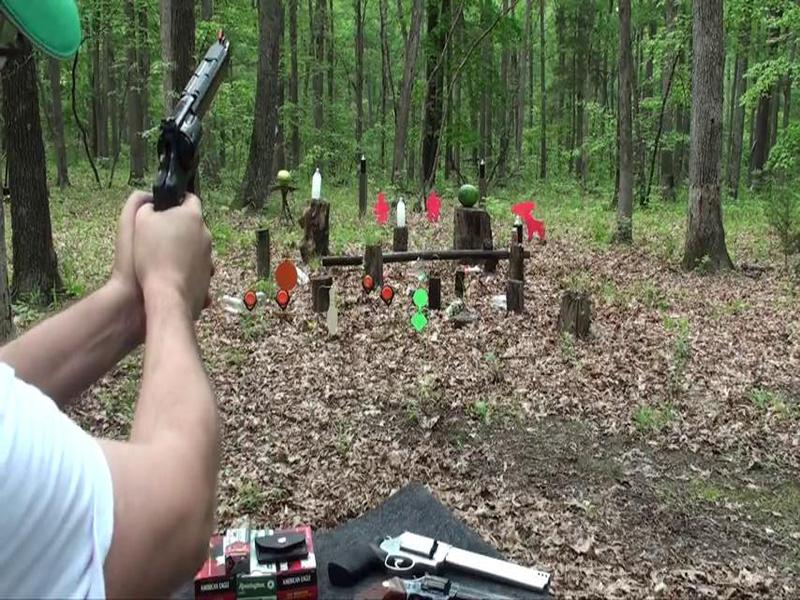Revolver: (145, 35, 249, 233)
